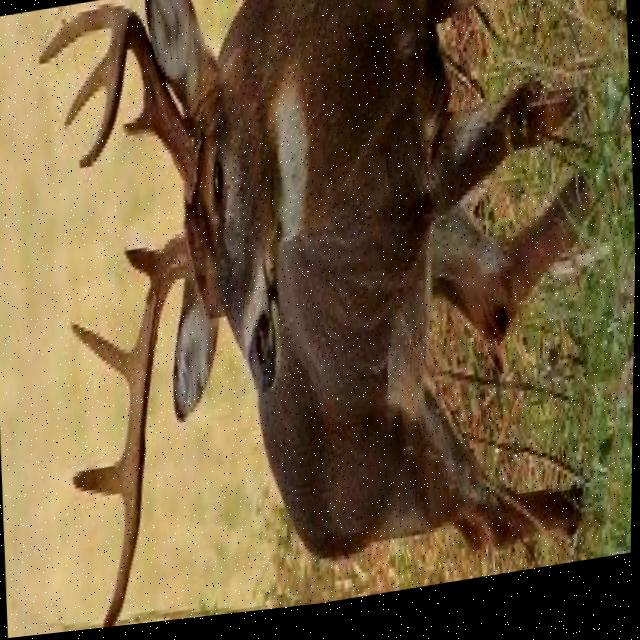L-F: (104, 228, 198, 630)
L-G1: (122, 250, 164, 284)
L-G2: (70, 321, 133, 387)
L-G3: (73, 461, 125, 503)
R-F: (79, 9, 203, 211)
R-G1: (121, 102, 154, 142)
R-G2: (37, 7, 123, 68)
R-G3: (63, 45, 111, 131)
